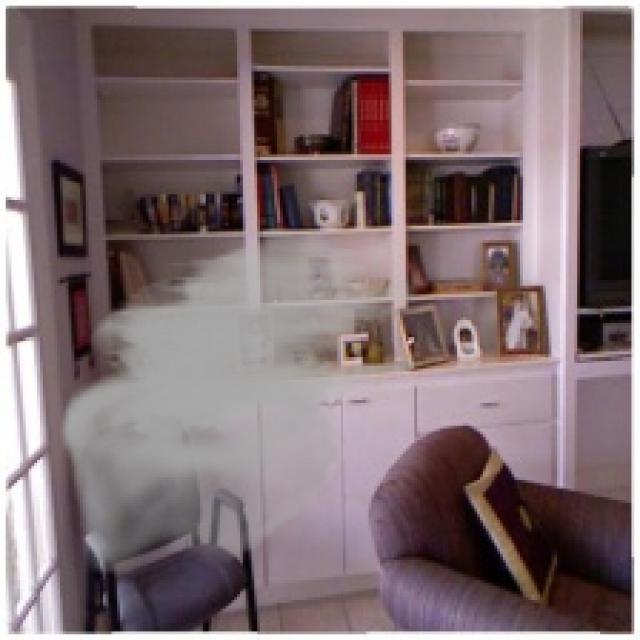Smoke: (60, 222, 417, 574)
